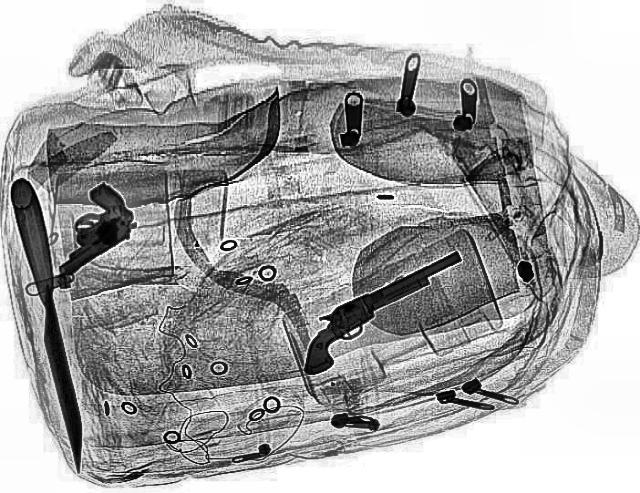Gun: (270, 250, 492, 376), (17, 181, 153, 277)
Knife: (7, 176, 98, 472)
